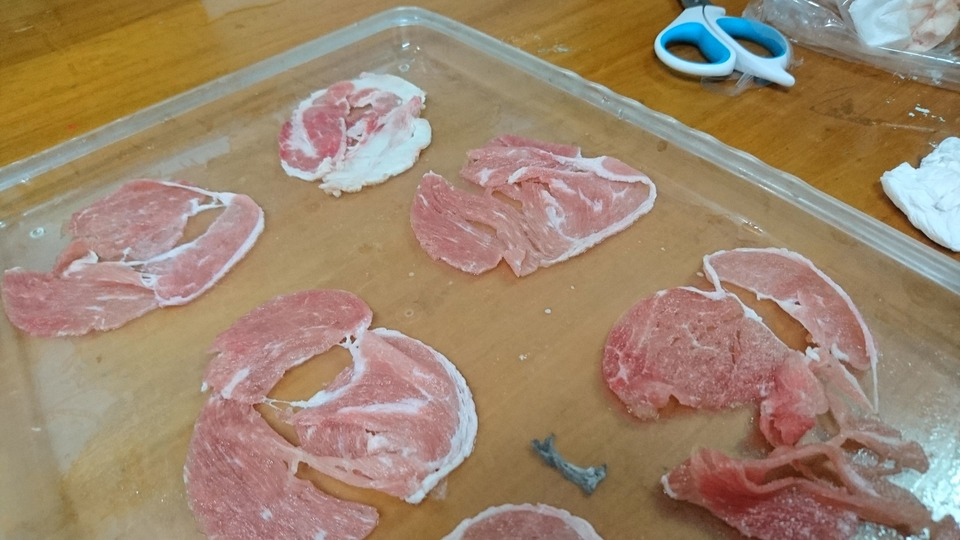restructured meat: (603, 256, 952, 540), (176, 288, 473, 540), (8, 156, 247, 341), (411, 126, 673, 270), (258, 50, 438, 191)
